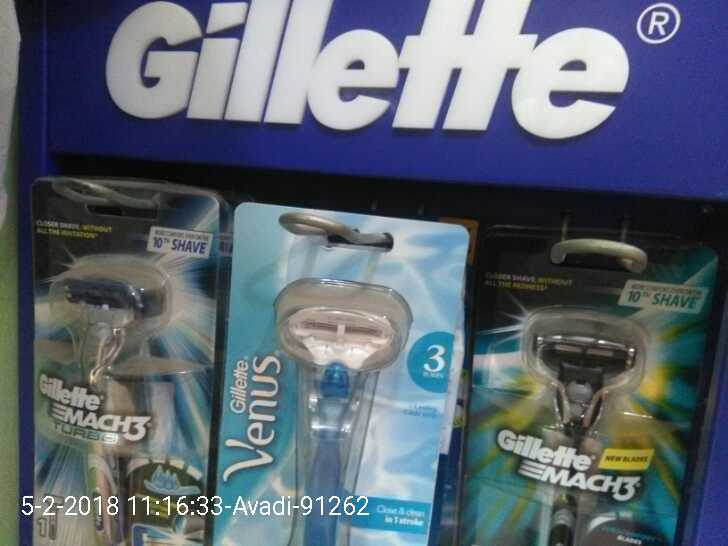beauty: (223, 200, 473, 546), (481, 230, 705, 546), (35, 177, 216, 545)
